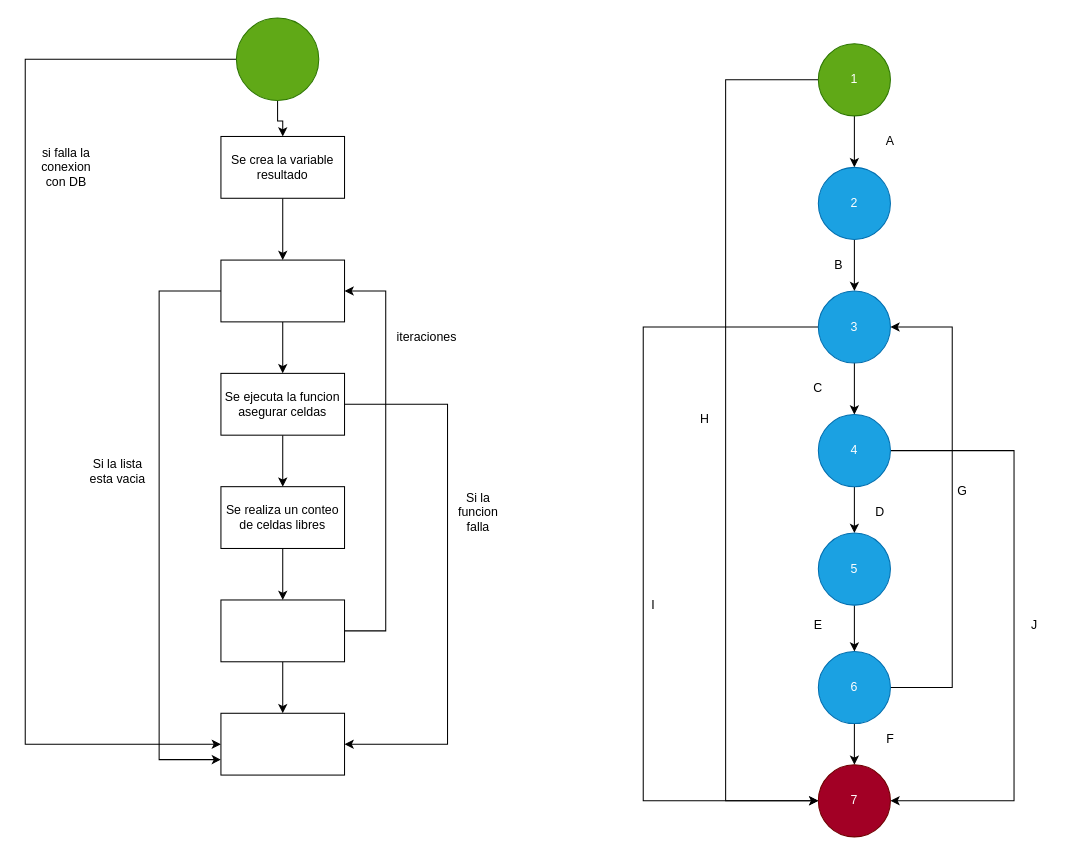
Some shapes in this 1084 by 855 pixel diagram are drawn without their labels. The shapes that lost their labels are listed below. From the top down, each one's centre as x and y in pixels, then its label:
At (x=277, y=58): "Se buscan parqueaderos".
At (x=282, y=290): "Se hace el for con la lista de parqueaderos traidos".
At (x=282, y=630): "Se hace el push con las celdas libres".
At (x=282, y=743): "Se retorna la variable resultado".
